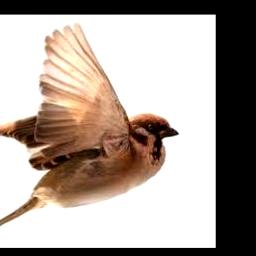Sparrow: (0, 21, 178, 240)
